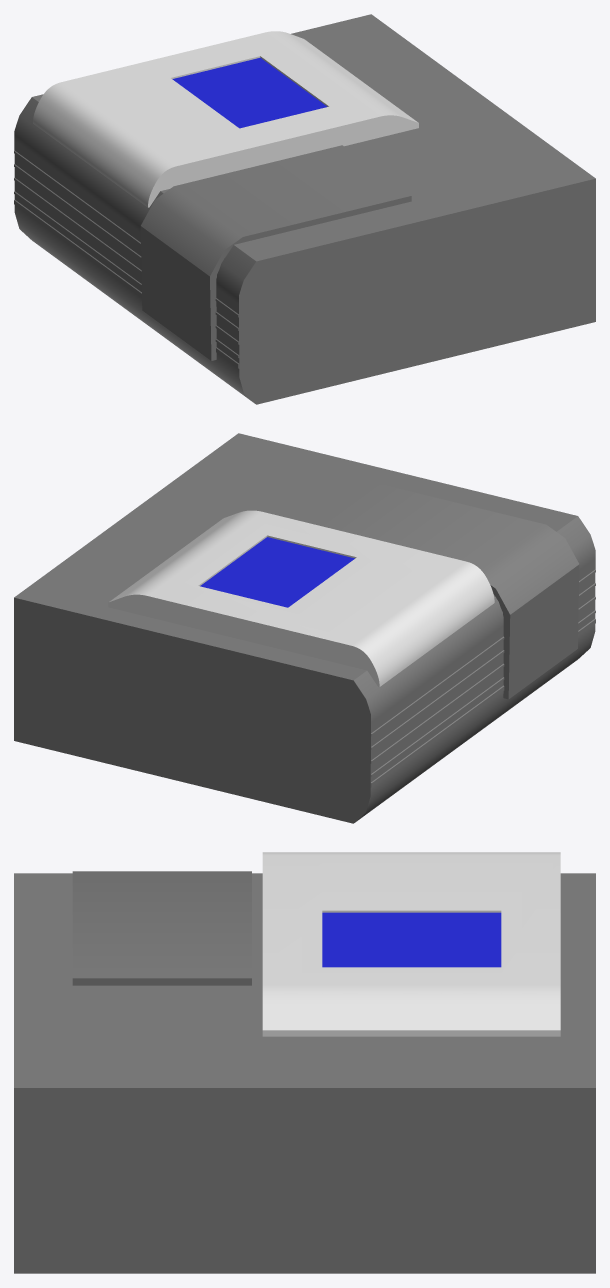
3 renders of one model, top to bottom at view 1: azimuth 30°, elevation 25°; view 2: azimuth 150°, elevation 25°; view 3: azimuth 270°, elevation 25°, orthographic. The views are drawn at different scales.
Visible parts, largest first — view 1: Box001, Box002, Box003; view 2: Box001, Box002, Box003; view 3: Box001, Box002, Box003.
Boxes of the visible parts, <box> form: Box001: <box>14,14,595,404</box>; Box002: <box>33,31,418,207</box>; Box003: <box>140,145,411,360</box>; Box001: <box>14,433,595,823</box>; Box002: <box>108,510,494,686</box>; Box003: <box>320,483,579,699</box>; Box001: <box>14,873,595,1273</box>; Box002: <box>262,852,560,1036</box>; Box003: <box>72,871,251,985</box>.
Size of the model in its own units: 118 by 50.77 by 126.
